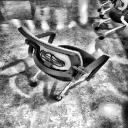chair_success: (16, 25, 113, 103)
